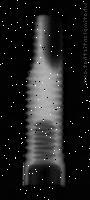Neoss: (22, 14, 67, 186)
